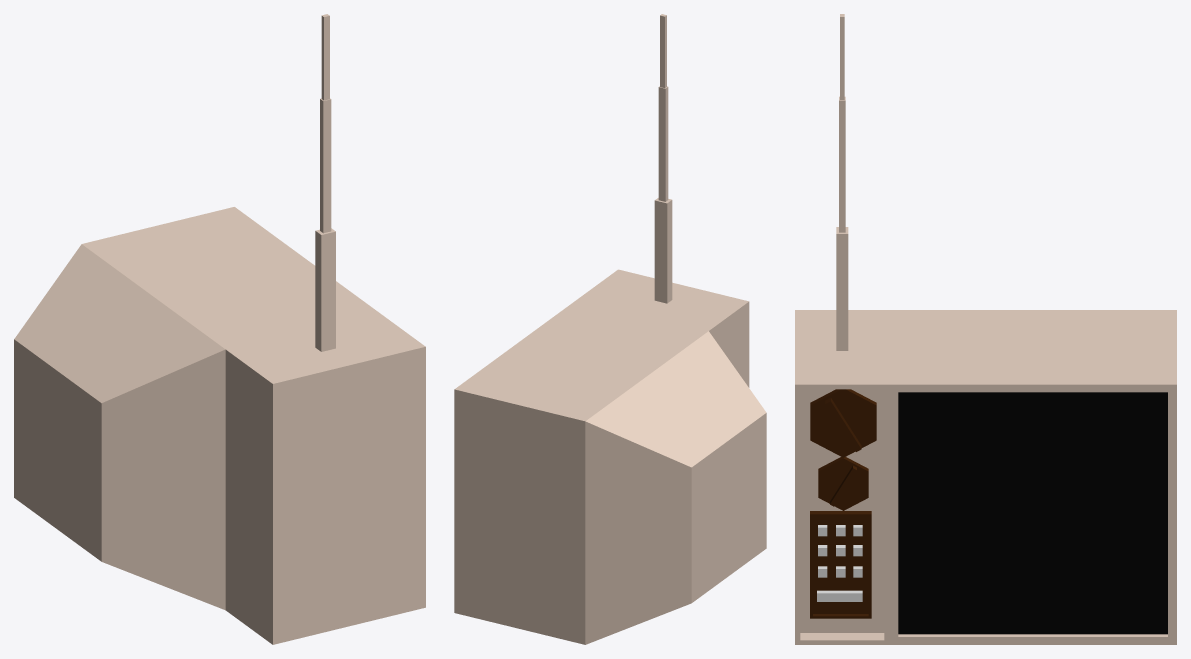
3 views of the same model, side by side, from view 1: azimuth 30°, elevation 25°; view 2: azimuth 150°, elevation 25°; view 3: azimuth 270°, elevation 25° (orthographic). The views are drawn at different scales.
Parts seen in each view (by area): view 1: pCube40; view 2: pCube40; view 3: pCube40.
Boxes of the visible parts, <box> form: pCube40: <box>14,14,425,644</box>; pCube40: <box>454,14,766,644</box>; pCube40: <box>795,14,1176,644</box>.
Size of the model in its own units: 1.64 by 3.74 by 2.19.
